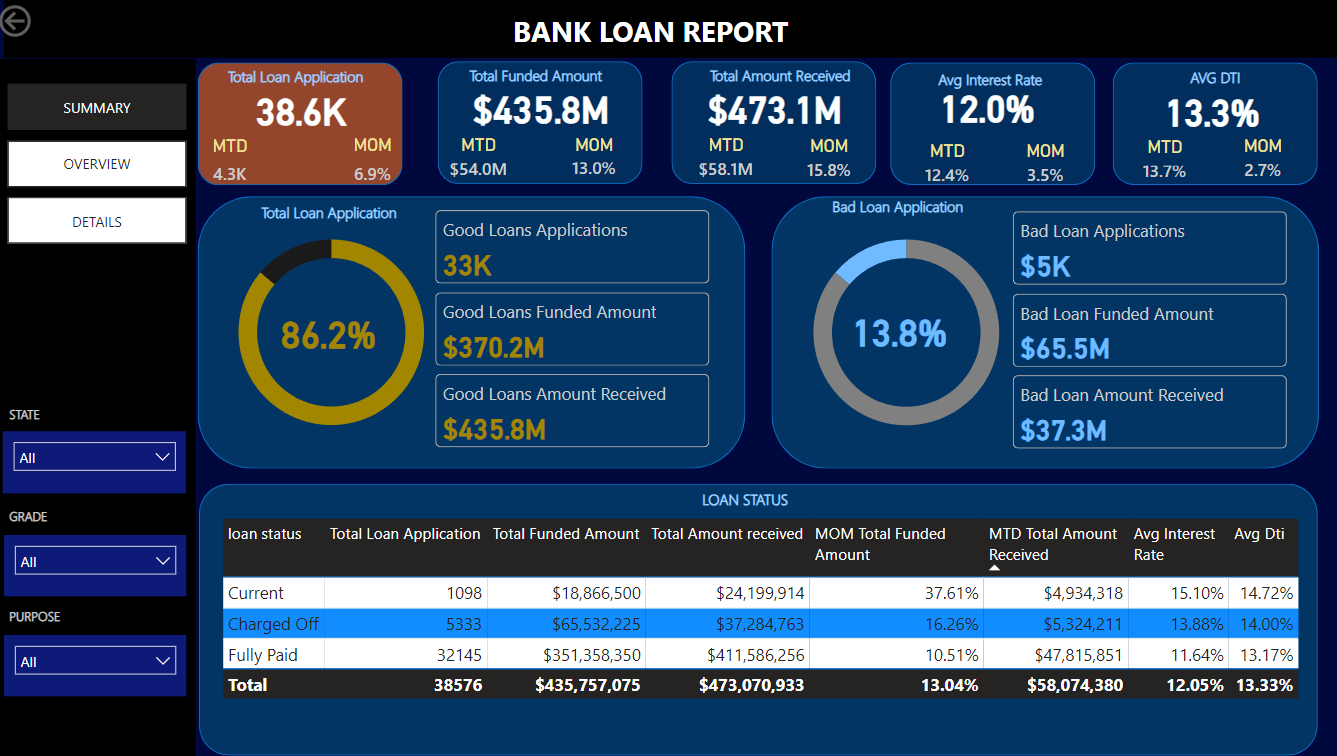

What the dashboard file says about the page in this screenshot:
{"tool":"powerbi","page":{"name":"SUMMARY","canvas":[1280,720],"ordinal":0},"visuals":[{"type":"shape","box":[853.6,59.5,195.2,116.7],"z":0,"group":"g9"},{"type":"shape","box":[194,186.9,521.4,259.5],"z":0},{"type":"shape","box":[9.5,0,1269.7,55],"z":1000},{"type":"shape","box":[0,55.4,192,664.4],"z":2000},{"type":"textbox","box":[488.8,5.7,299.8,49.6],"z":3000},{"type":"shape","box":[645.2,58.3,195,117],"z":3000,"group":"g6"},{"type":"shape","box":[422.9,58.7,195,117],"z":3000,"group":"g2"},{"type":"shape","box":[194,59.4,195,117],"z":3000,"group":"g1"},{"type":"group","id":"g1","title":"Group 1","box":[108.3,58.3,367.9,129.8],"z":4000},{"type":"card","fields":{"Values":["Bank_loan_data.Total Amount received"]},"box":[559.5,76.6,368.4,52.3],"z":4000,"group":"g6"},{"type":"card","fields":{"Values":["Bank_loan_data.Total Funded Amount"]},"box":[337.2,77.1,368.4,52.3],"z":4000,"group":"g2"},{"type":"card","fields":{"Values":["Bank_loan_data.Total Loan  Application"]},"box":[108.3,77.8,368.4,52.3],"z":4000,"group":"g1"},{"type":"group","id":"g2","title":"Group 2","box":[337.2,57.6,367.9,117.9],"z":4002,"group":"g10"},{"type":"textbox","box":[670.8,57,157.1,38.1],"z":5000,"group":"g6"},{"type":"group","id":"g3","title":"Group 1","box":[337.2,57.6,367.9,117.9],"z":5000},{"type":"textbox","box":[441.8,57.6,148.3,37.7],"z":5000,"group":"g2"},{"type":"textbox","box":[212.9,58.3,148.3,37.7],"z":5000,"group":"g1"},{"type":"group","id":"g4","title":"Group 3","box":[337.2,57.6,367.9,117.9],"z":5001,"group":"g3"},{"type":"group","id":"g5","title":"Group 4","box":[337.2,57.6,367.9,117.9],"z":5001,"group":"g4"},{"type":"card","title":"MTD","fields":{"Values":["Bank_loan_data.MTD Funded Amount"]},"box":[420.2,128.2,82.1,42.9],"z":6000,"group":"g10"},{"type":"card","title":"MTD","fields":{"Values":["Bank_loan_data.MTD Loan Application"]},"box":[183.7,128.8,82.7,58.4],"z":6000,"group":"g1"},{"type":"textbox","box":[240,188.5,157,37.7],"z":6000},{"type":"group","id":"g6","title":"Group 2","box":[559.5,57,368.4,118.3],"z":7000},{"type":"card","fields":{"Values":["Bank_loan_data.Avg Interest Rate"]},"box":[862.2,73.8,167.9,54.8],"z":7000,"group":"g9"},{"type":"card","title":"MOM","fields":{"Values":["Bank_loan_data.MOM Loan Application"]},"box":[319.6,127.8,83,60.4],"z":7000,"group":"g1"},{"type":"card","title":"MOM","fields":{"Values":["Bank_loan_data.MOM Total Funded Amount"]},"box":[526.1,128.2,90.5,44],"z":7000,"group":"g10"},{"type":"actionButton","box":[0,0,100,40],"z":8000},{"type":"card","title":"MTD","fields":{"Values":["Bank_loan_data.MTD Total Amount Received"]},"box":[656,127.4,82.1,42.9],"z":9000},{"type":"card","title":"MOM","fields":{"Values":["Bank_loan_data.MOM Total Amount received"]},"box":[750,128.6,90.5,44],"z":10000},{"type":"group","id":"g7","title":"Group 8","box":[1065.5,59.5,195.2,116.7],"z":10001,"group":"g8"},{"type":"group","id":"g8","title":"Group 7","box":[1065.5,59.5,195.2,116.7],"z":11000},{"type":"textbox","box":[875,61.1,147.6,38.1],"z":11000,"group":"g9"},{"type":"group","id":"g9","title":"Group 6","box":[853.6,59.5,195.2,117.9],"z":12000},{"type":"card","title":"MTD","fields":{"Values":["Bank_loan_data.MTD Average Interest Rate"]},"box":[866.7,133.7,82.1,42.9],"z":13000,"group":"g9"},{"type":"shape","box":[740.5,186.9,521.4,259.5],"z":13000},{"type":"shape","box":[1065.5,59.5,195.2,116.7],"z":13500,"group":"g7"},{"type":"card","fields":{"Values":["Bank_loan_data.Avg Dti"]},"box":[1065.5,78.5,189.3,52.4],"z":14000,"group":"g7"},{"type":"card","title":"MOM","fields":{"Values":["Bank_loan_data.MOM Avg Interest Rate"]},"box":[955.9,133.7,90.5,44],"z":14000,"group":"g9"},{"type":"donutChart","fields":{"Category":["Bank_loan_data.Good Vs bad Loans"],"Y":["Bank_loan_data.Total Loan  Application"]},"box":[196.4,201.2,250,231],"z":14000},{"type":"textbox","box":[1089.3,59.5,147.6,35.7],"z":15000,"group":"g7"},{"type":"card","fields":{"Values":["Bank_loan_data.Good Loan %"]},"box":[263.1,289.3,110.7,54.8],"z":15000},{"type":"card","title":"MTD","fields":{"Values":["Bank_loan_data.MTD Average DTI"]},"box":[1073.4,129.3,82.1,42.9],"z":16000,"group":"g7"},{"type":"cardVisual","fields":{"Data":["Bank_loan_data.Good Loans Applications","Bank_loan_data.Good Loans Funded Amount","Bank_loan_data.Good Loans Amount Received"]},"box":[415.9,194.7,271.4,237.5],"z":16000},{"type":"donutChart","fields":{"Category":["Bank_loan_data.Good Vs bad Loans"],"Y":["Bank_loan_data.Total Loan  Application"]},"box":[743.8,201,250,231.2],"z":17000},{"type":"card","title":"MOM","fields":{"Values":["Bank_loan_data.MOM Avg DTI"]},"box":[1162.6,128.1,90.5,44],"z":18000,"group":"g7"},{"type":"textbox","box":[782.7,182.2,157,37.7],"z":18000},{"type":"group","id":"g10","title":"Group 5","box":[337.2,57.6,367.9,117.9],"z":18001,"group":"g5"},{"type":"card","fields":{"Values":["Bank_loan_data.Bad Loan %"]},"box":[806.6,286.5,110.6,55.3],"z":19000},{"type":"cardVisual","fields":{"Data":["Bank_loan_data.Bad Loan Applications","Bank_loan_data.Bad Loan Funded Amount","Bank_loan_data.Bad Loan Amount Received"]},"box":[964.9,196,271.4,237.5],"z":20000},{"type":"shape","box":[194.7,461.1,1065.4,258.8],"z":21000},{"type":"tableEx","fields":{"Values":["Bank_loan_data.loan_status","Bank_loan_data.Total Loan  Application","Bank_loan_data.Total Funded Amount","Bank_loan_data.Total Amount received","Bank_loan_data.MOM Total Funded Amount","Bank_loan_data.MTD Total Amount Received","Bank_loan_data.Avg Interest Rate","Bank_loan_data.Avg Dti"]},"box":[212.3,488.7,1040.3,231.2],"z":22000},{"type":"textbox","box":[637,461.1,157,37.7],"z":23000},{"type":"slicer","fields":{"Values":["Bank_loan_data.address_state"]},"box":[8.8,410.8,174.6,59.1],"z":24000},{"type":"textbox","box":[10.1,379.4,134.4,31.4],"z":25000},{"type":"slicer","fields":{"Values":["Bank_loan_data.grade"]},"box":[9.5,509.5,173.8,58.3],"z":26000},{"type":"textbox","box":[9.5,477.4,134.5,32.1],"z":27000},{"type":"slicer","fields":{"Values":["Bank_loan_data.purpose"]},"box":[9.5,604.8,173.8,58.3],"z":28000},{"type":"textbox","box":[9.5,572.6,134.5,32.1],"z":29000},{"type":"pageNavigator","box":[13.1,79.8,170.2,152.4],"z":29001}]}

Visuals, with their boxes in screenshot pixels (x1, y1, x2, y2), scaled from the page's 1280x720 canvas onto the 1337x756 screenshot:
shape: x1=892 y1=62 x2=1096 y2=185
shape: x1=203 y1=196 x2=747 y2=469
shape: x1=10 y1=0 x2=1336 y2=58
shape: x1=0 y1=58 x2=201 y2=755
textbox: x1=511 y1=6 x2=824 y2=58
shape: x1=674 y1=61 x2=878 y2=184
shape: x1=442 y1=62 x2=645 y2=184
shape: x1=203 y1=62 x2=406 y2=185
"Group 1" group: x1=113 y1=61 x2=497 y2=198
card - Bank_loan_data.Total Amount received: x1=584 y1=80 x2=969 y2=135
card - Bank_loan_data.Total Funded Amount: x1=352 y1=81 x2=737 y2=136
card - Bank_loan_data.Total Loan  Application: x1=113 y1=82 x2=498 y2=137
"Group 2" group: x1=352 y1=60 x2=736 y2=184
textbox: x1=701 y1=60 x2=865 y2=100
"Group 1" group: x1=352 y1=60 x2=736 y2=184
textbox: x1=461 y1=60 x2=616 y2=100
textbox: x1=222 y1=61 x2=377 y2=101
"Group 3" group: x1=352 y1=60 x2=736 y2=184
"Group 4" group: x1=352 y1=60 x2=736 y2=184
"MTD" card: x1=439 y1=135 x2=525 y2=180
"MTD" card: x1=192 y1=135 x2=278 y2=197
textbox: x1=251 y1=198 x2=415 y2=238
"Group 2" group: x1=584 y1=60 x2=969 y2=184
card - Bank_loan_data.Avg Interest Rate: x1=901 y1=77 x2=1076 y2=135
"MOM" card: x1=334 y1=134 x2=421 y2=198
"MOM" card: x1=550 y1=135 x2=644 y2=181
actionButton: x1=0 y1=0 x2=104 y2=42
"MTD" card: x1=685 y1=134 x2=771 y2=179
"MOM" card: x1=783 y1=135 x2=878 y2=181
"Group 8" group: x1=1113 y1=62 x2=1317 y2=185
"Group 7" group: x1=1113 y1=62 x2=1317 y2=185
textbox: x1=914 y1=64 x2=1068 y2=104
"Group 6" group: x1=892 y1=62 x2=1096 y2=186
"MTD" card: x1=905 y1=140 x2=991 y2=185
shape: x1=773 y1=196 x2=1318 y2=469
shape: x1=1113 y1=62 x2=1317 y2=185
card - Bank_loan_data.Avg Dti: x1=1113 y1=82 x2=1311 y2=137
"MOM" card: x1=998 y1=140 x2=1093 y2=187
donutChart - Bank_loan_data.Good Vs bad Loans x Bank_loan_data.Total Loan  Application: x1=205 y1=211 x2=466 y2=454
textbox: x1=1138 y1=62 x2=1292 y2=100
card - Bank_loan_data.Good Loan %: x1=275 y1=304 x2=390 y2=361
"MTD" card: x1=1121 y1=136 x2=1207 y2=181
cardVisual - Bank_loan_data.Good Loans Applications x Bank_loan_data.Good Loans Funded Amount: x1=434 y1=204 x2=718 y2=454
donutChart - Bank_loan_data.Good Vs bad Loans x Bank_loan_data.Total Loan  Application: x1=777 y1=211 x2=1038 y2=454
"MOM" card: x1=1214 y1=135 x2=1309 y2=181
textbox: x1=818 y1=191 x2=982 y2=231
"Group 5" group: x1=352 y1=60 x2=736 y2=184
card - Bank_loan_data.Bad Loan %: x1=843 y1=301 x2=958 y2=359
cardVisual - Bank_loan_data.Bad Loan Applications x Bank_loan_data.Bad Loan Funded Amount: x1=1008 y1=206 x2=1291 y2=455
shape: x1=203 y1=484 x2=1316 y2=755
tableEx - Bank_loan_data.loan_status x Bank_loan_data.Total Loan  Application: x1=222 y1=513 x2=1308 y2=755
textbox: x1=665 y1=484 x2=829 y2=524
slicer - Bank_loan_data.address_state: x1=9 y1=431 x2=192 y2=493
textbox: x1=11 y1=398 x2=151 y2=431
slicer - Bank_loan_data.grade: x1=10 y1=535 x2=191 y2=596
textbox: x1=10 y1=501 x2=150 y2=535
slicer - Bank_loan_data.purpose: x1=10 y1=635 x2=191 y2=696
textbox: x1=10 y1=601 x2=150 y2=635
pageNavigator: x1=14 y1=84 x2=191 y2=244
